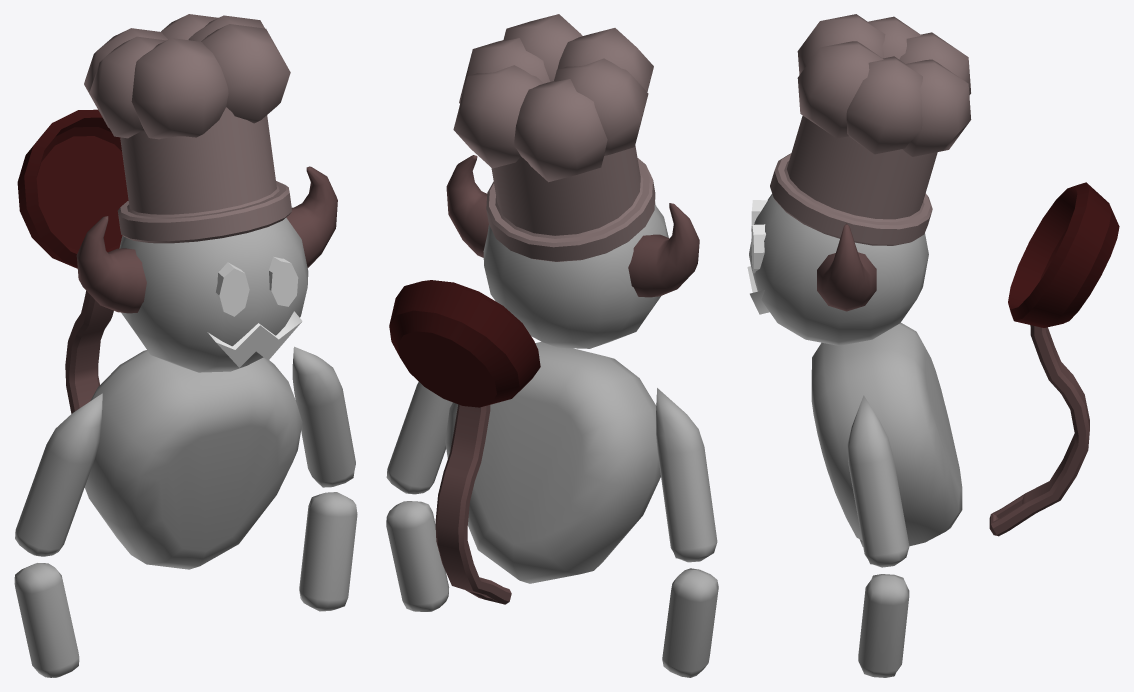
File: DinnerDemon 1.fbx
3 renders of one model, left to right at view 1: azimuth 30°, elevation 25°; view 2: azimuth 150°, elevation 25°; view 3: azimuth 270°, elevation 25°, orthographic. The views are drawn at different scales.
Parts seen in each view (by area): view 1: Head, Torso, Pan, ArmR, ArmL, ForeArmL, ForeArmR, Tail; view 2: Head, Torso, Pan, ArmR, Tail, ForeArmL, ForeArmR, ArmL; view 3: Head, Torso, Pan, ArmL, Tail, ForeArmL.
Boxes of the visible parts, x1,y1,x2,y2 form: Head: (76, 14, 337, 372); Torso: (84, 350, 302, 569); Pan: (17, 109, 128, 268); ArmR: (15, 393, 102, 556); ArmL: (292, 346, 355, 487); ForeArmL: (299, 492, 357, 611); ForeArmR: (14, 563, 79, 677); Tail: (65, 290, 113, 413); Head: (446, 14, 699, 348); Torso: (445, 341, 660, 583); Pan: (389, 280, 540, 407); ArmR: (656, 388, 717, 562); Tail: (435, 404, 511, 604); ForeArmL: (386, 501, 449, 611); ForeArmR: (662, 568, 718, 677); ArmL: (386, 382, 452, 494); Head: (747, 14, 971, 345); Torso: (811, 323, 962, 546); Pan: (1008, 182, 1119, 327); ArmL: (847, 395, 909, 567); Tail: (989, 325, 1089, 536); ForeArmL: (858, 574, 909, 677).
Bounding box in the file's own units: 1.16 × 2.05 × 1.19.
